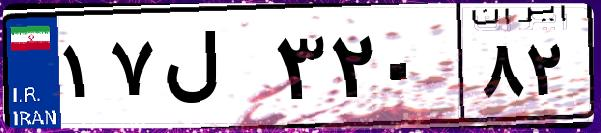0: (385, 28, 445, 110)
1: (57, 26, 110, 100)
2: (330, 28, 385, 110), (525, 38, 570, 115)
3: (270, 28, 330, 110)
7: (110, 28, 158, 98)
8: (475, 38, 525, 113)
ل: (158, 20, 270, 120)
